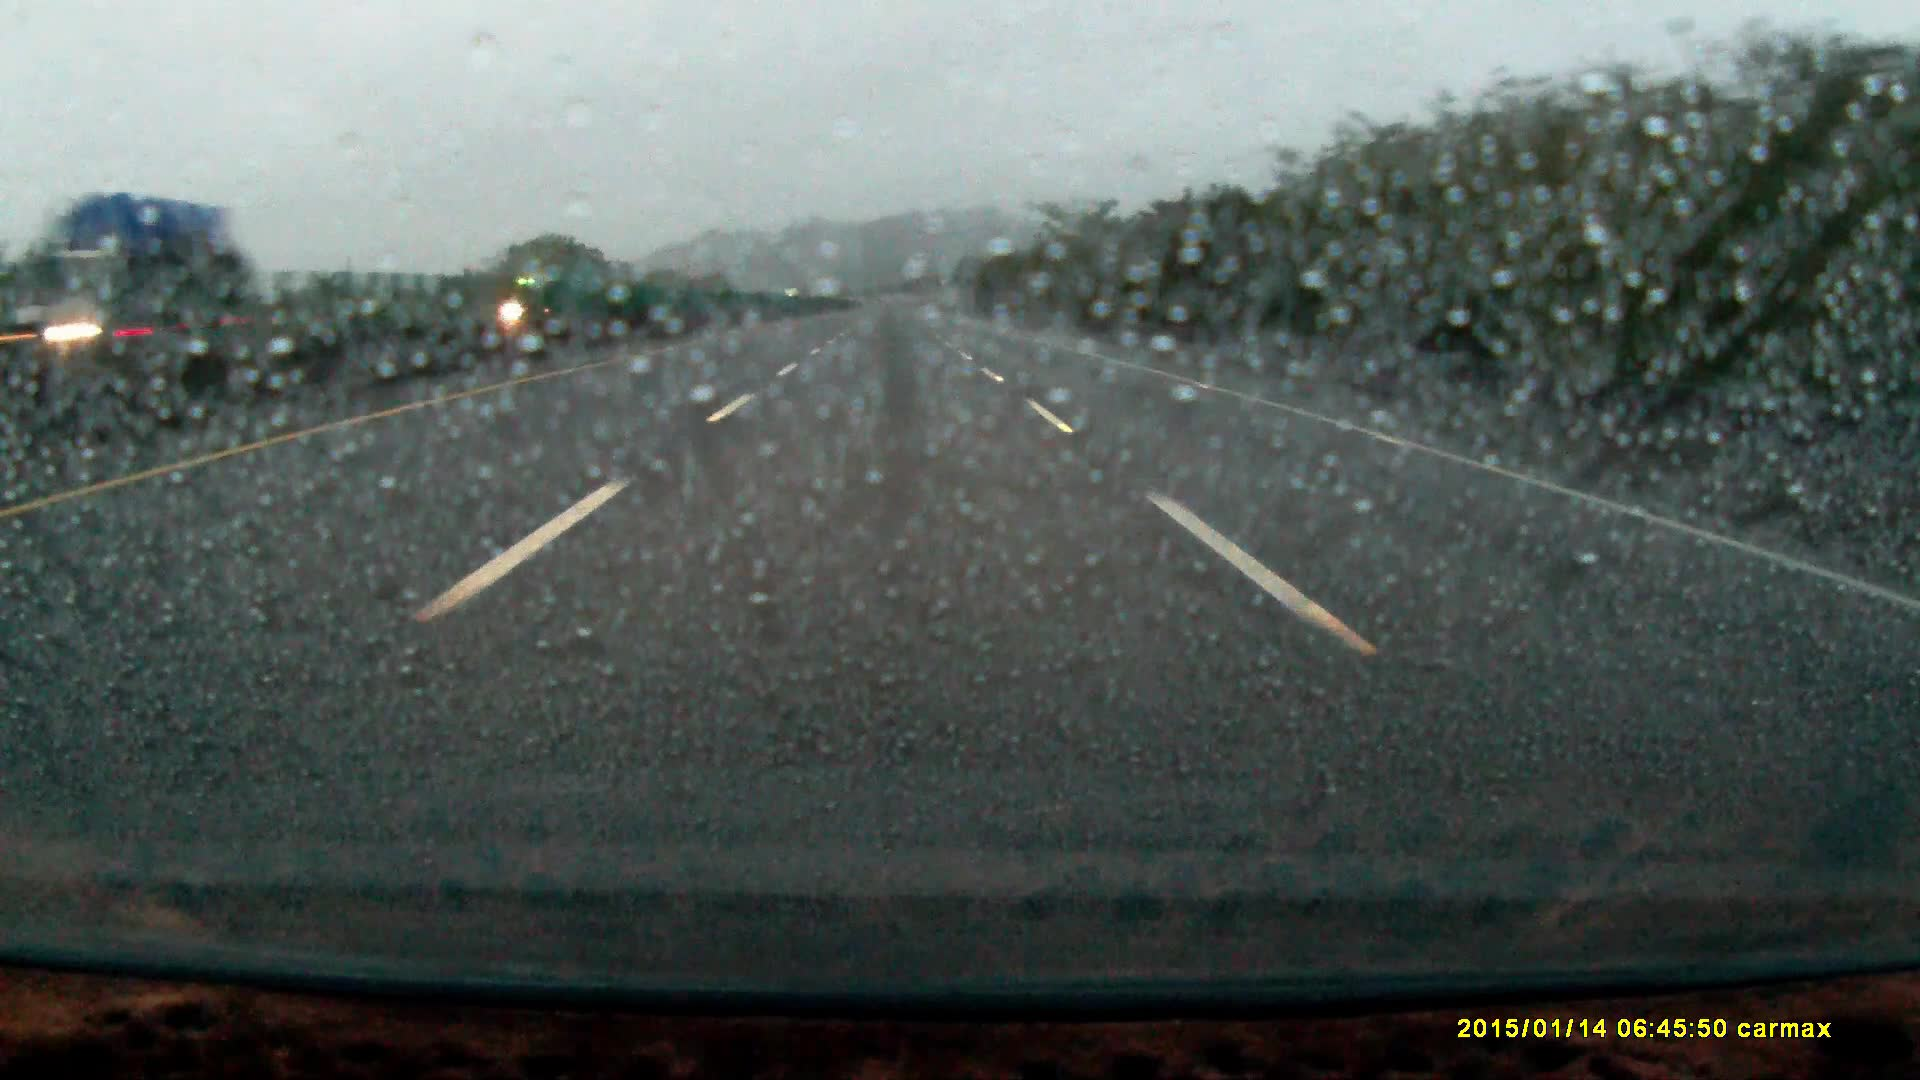vehicle: (12, 195, 227, 369), (504, 262, 605, 331)
